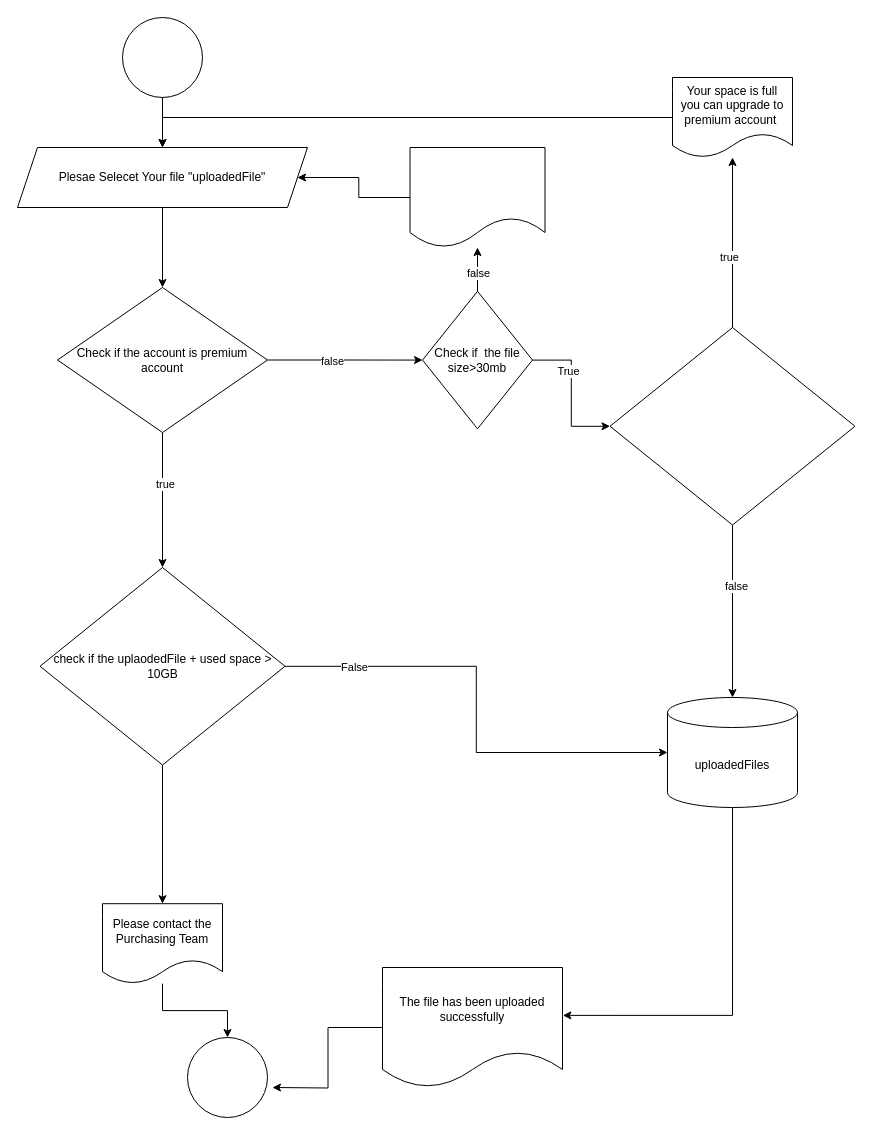
Image size: 873x1135. Some labels were removed from this diagram. Here are the shapes that lost their labels. From the top down, the box of each, then its label:
(122, 16, 202, 98): Strat
(409, 146, 545, 248): the fıle size is biger then 30 mb you can upgrade to premium account
(609, 326, 855, 525): check if the uplaodedFile + used space > 5GB
(186, 1036, 268, 1118): end
